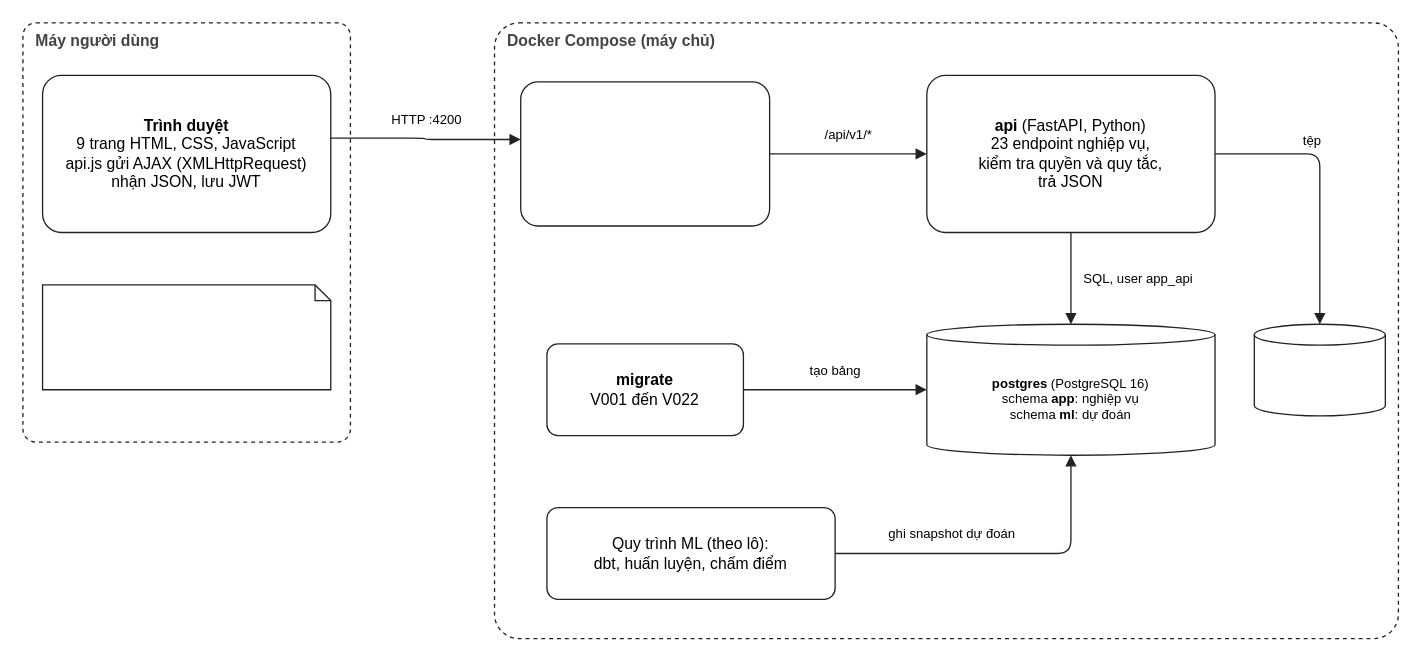
The diagram is 1421 pixels wide and 662 high, and some of its shapes have lost their labels. The centre of each missing label's shape, as x and y in pixels:
frontend (Nginx) phục vụ trang tĩnh, chuyển /api/v1 sang API: the point at 644,153
Giao diện Việt / Anh, dùng được trên máy tính, máy tính bảng, điện thoại: the point at 186,337
Kho tệp minh chứng: the point at 1319,369
